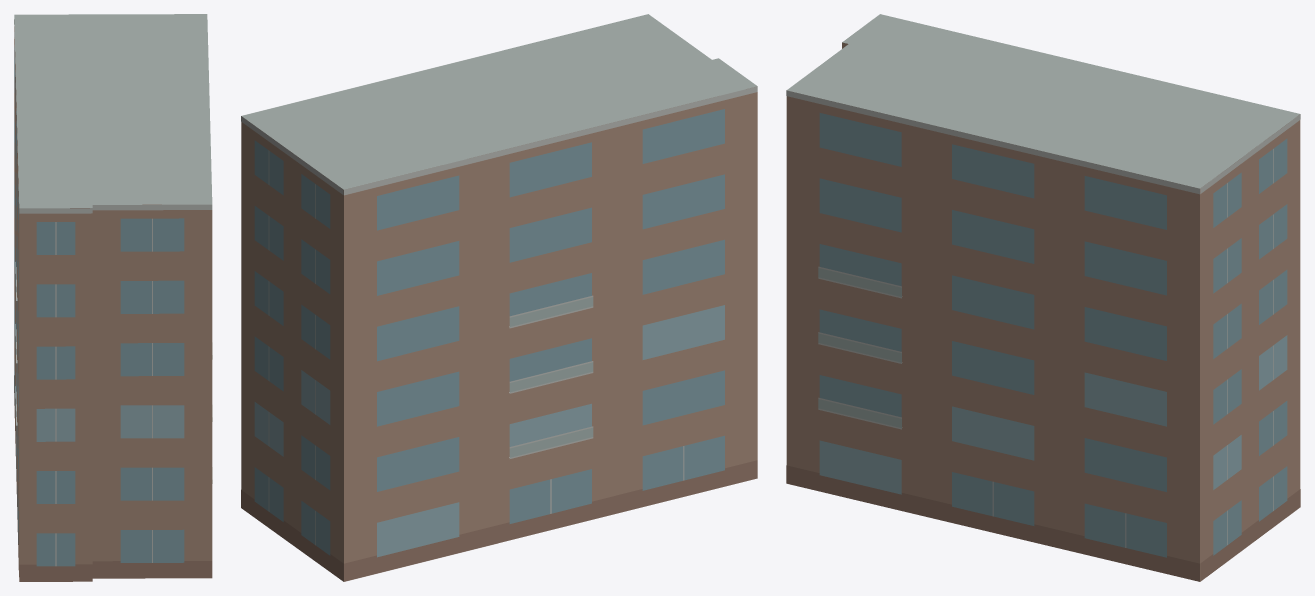
File: survey-upis-32991559.glb
The picture shows the model from 3 angles, left to right: view 1: azimuth 30°, elevation 25°; view 2: azimuth 150°, elevation 25°; view 3: azimuth 270°, elevation 25°; orthographic projection. The views are drawn at different scales.
Visible parts, largest first — view 1: survey-upis-32991559.tmp; view 2: survey-upis-32991559.tmp; view 3: survey-upis-32991559.tmp.
Part boxes in pixels (<box>): survey-upis-32991559.tmp: <box>14,14,212,581</box>; survey-upis-32991559.tmp: <box>241,14,757,581</box>; survey-upis-32991559.tmp: <box>786,14,1300,581</box>.
Size of the model in its own units: 16.01 by 16.8 by 19.91.
